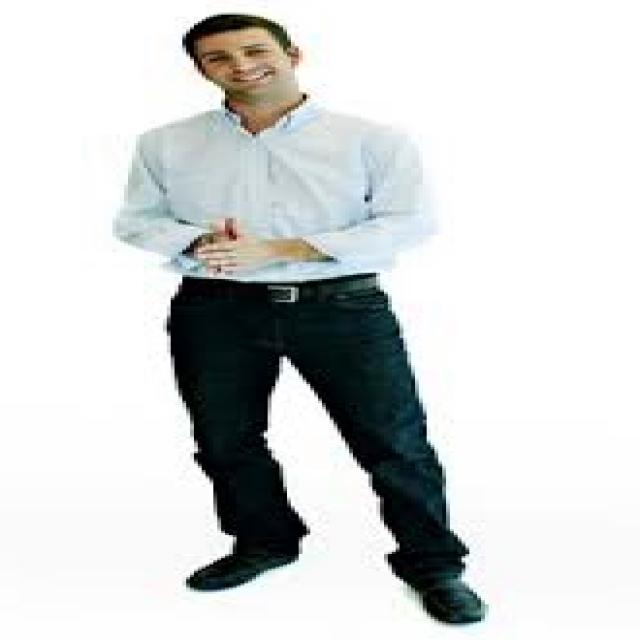adult: (81, 11, 492, 619)
